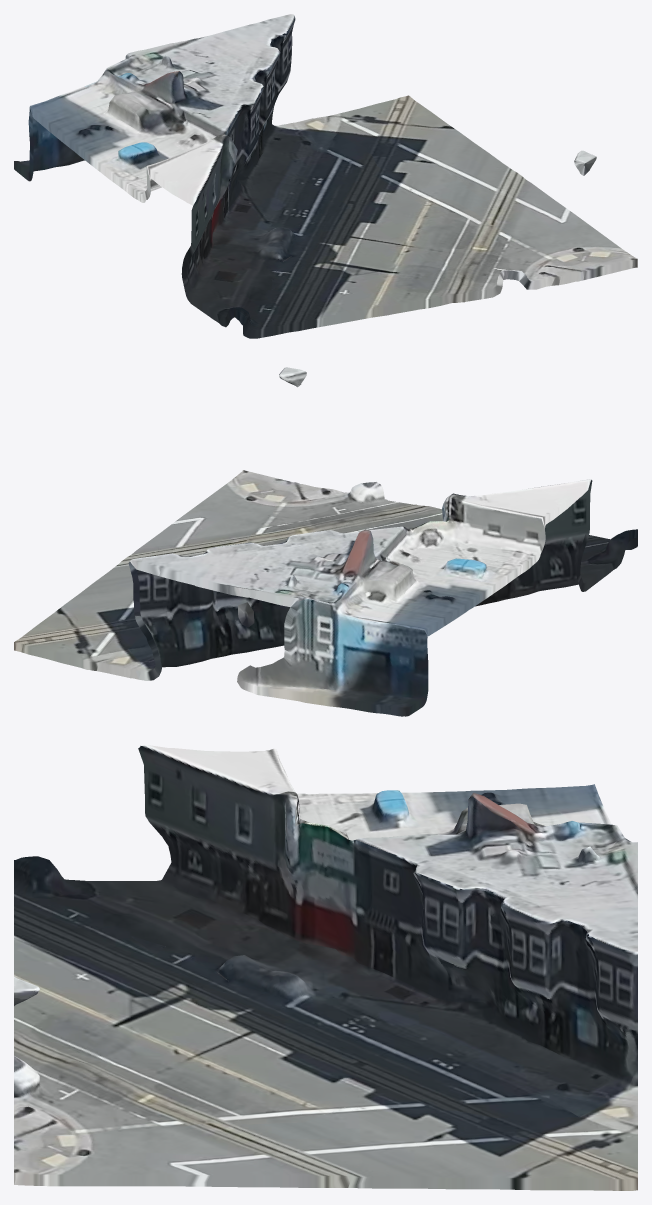
File: z20-167732-405194-h0-yup-uvflip-v3-world.glb
3 views of the same model, one above another, from view 1: azimuth 30°, elevation 25°; view 2: azimuth 150°, elevation 25°; view 3: azimuth 270°, elevation 25° (orthographic). The views are drawn at different scales.
Bounding box in the file's own units: 30.16 × 10.88 × 30.32.
1 material, 1 textured.
